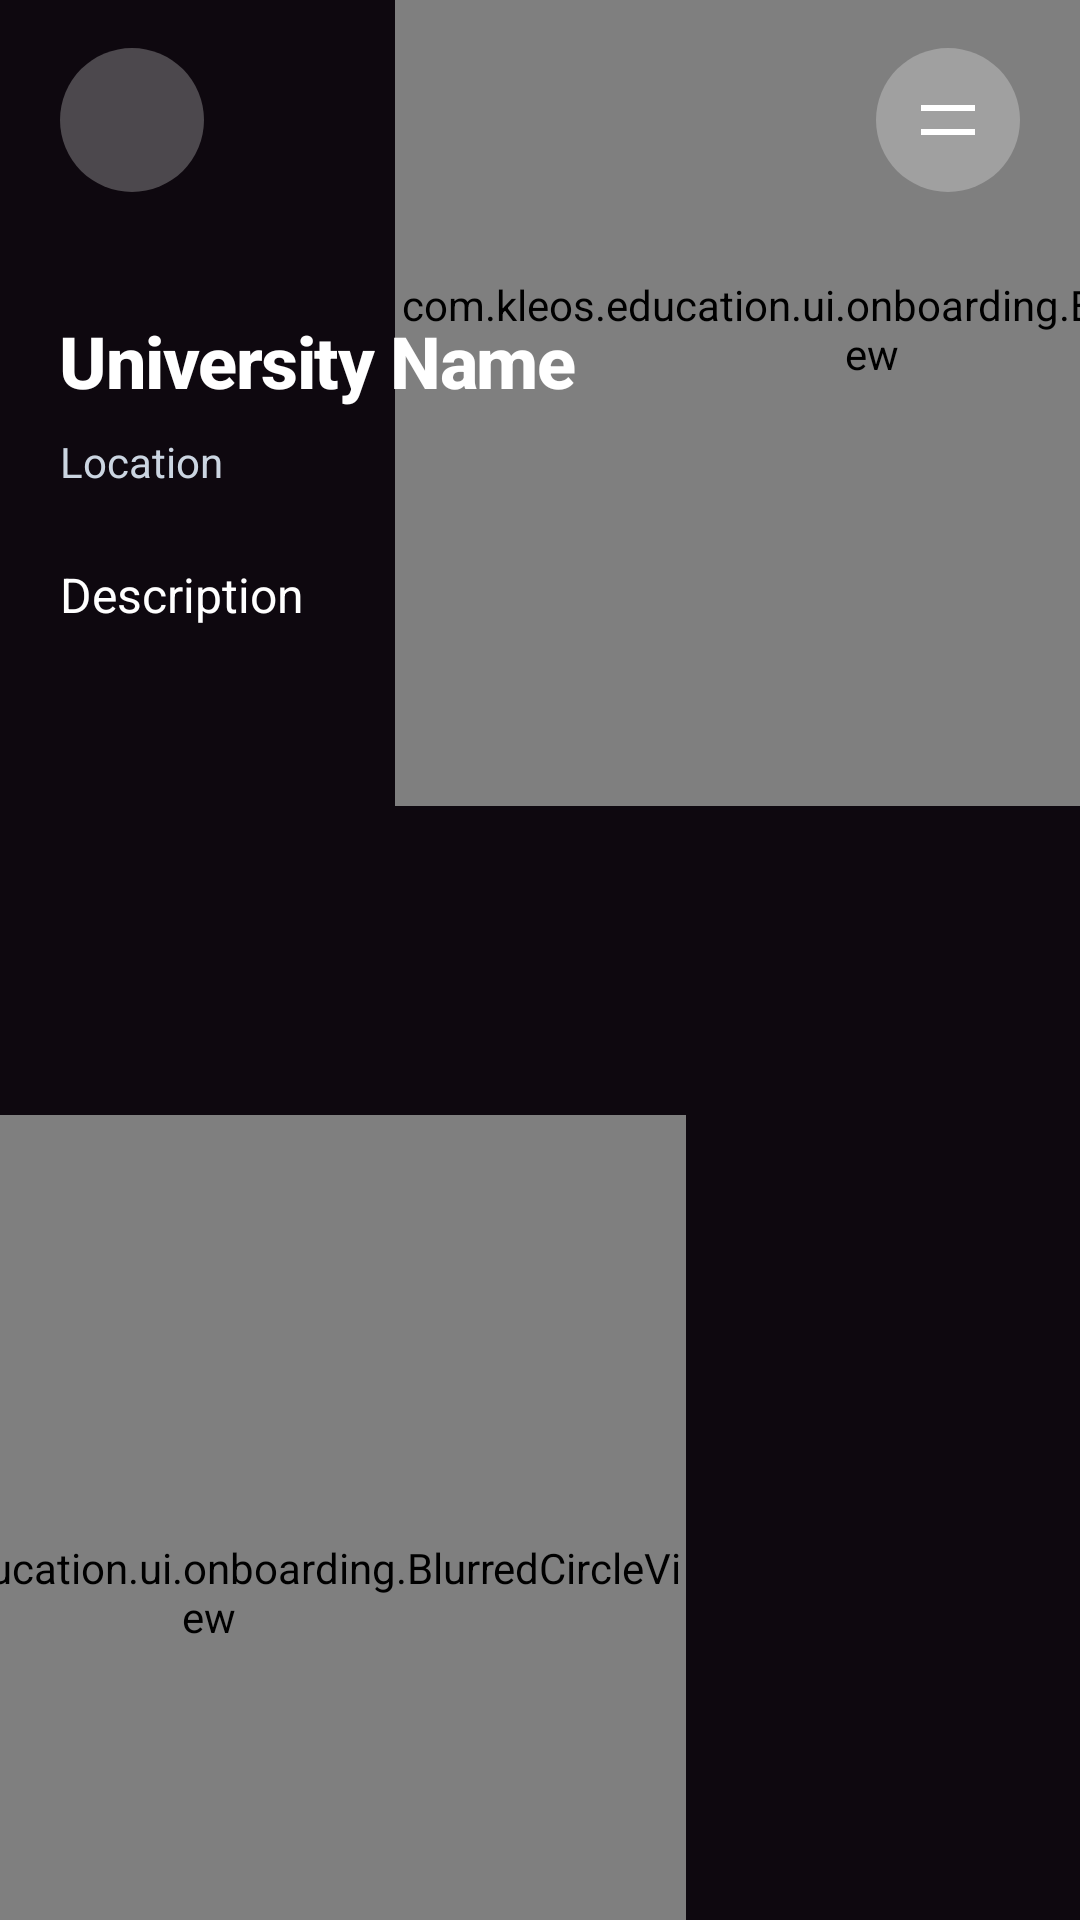

Locate icon controls on the screen. Image size 1080px x 1920px, boxes as (x1, y1, x2, y2).
Menu: (876, 48, 1020, 192)
